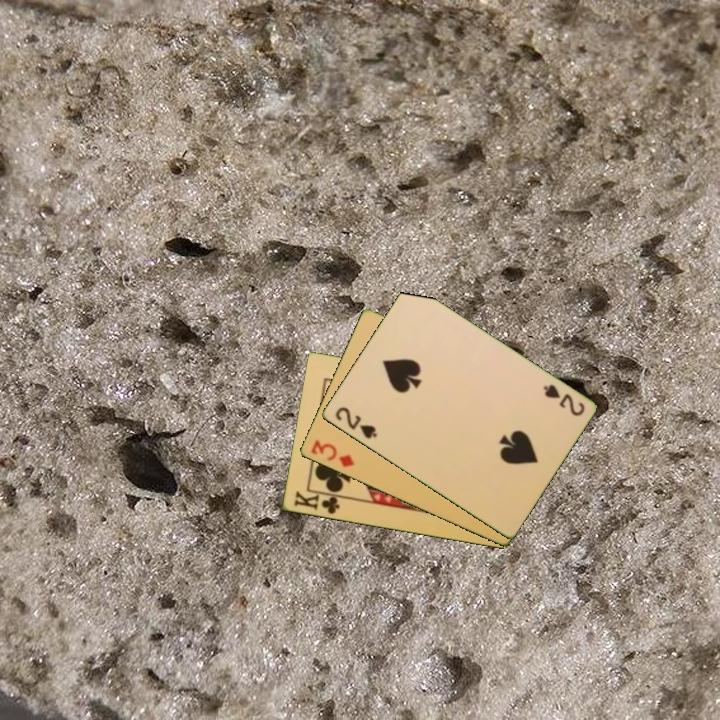2s: (331, 403, 380, 442), (539, 381, 587, 419)
3d: (307, 436, 357, 470)
Kc: (290, 488, 346, 517)
